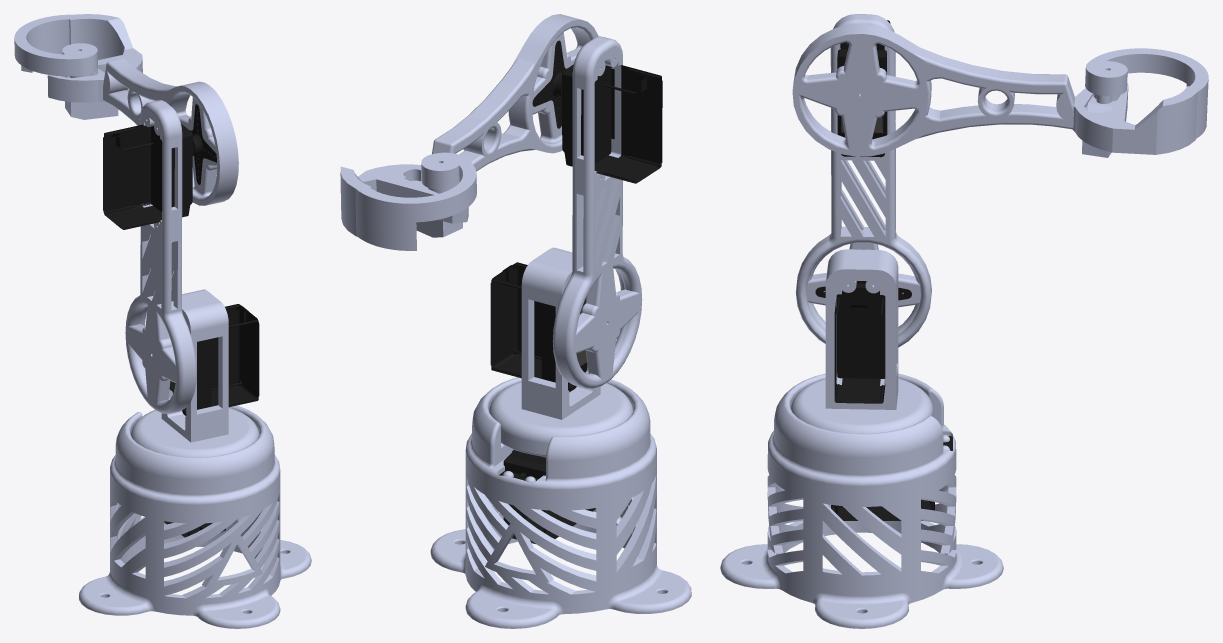
The model's file is Robotic_Arm.fbx.
3 renders of one model, left to right at view 1: azimuth 30°, elevation 25°; view 2: azimuth 150°, elevation 25°; view 3: azimuth 270°, elevation 25°, orthographic. The views are drawn at different scales.
Visible parts, largest first — view 1: stitch_result_stitch all (×11); view 2: stitch_result_stitch all (×13); view 3: stitch_result_stitch all (×9).
Part boxes in pixels (x1,y1,x2,y2): stitch_result_stitch all (×11): [14, 14, 311, 628]; stitch_result_stitch all (×13): [340, 14, 691, 628]; stitch_result_stitch all (×9): [720, 14, 1208, 628].
Size of the model in its own units: 4.49 by 9.52 by 7.76.
